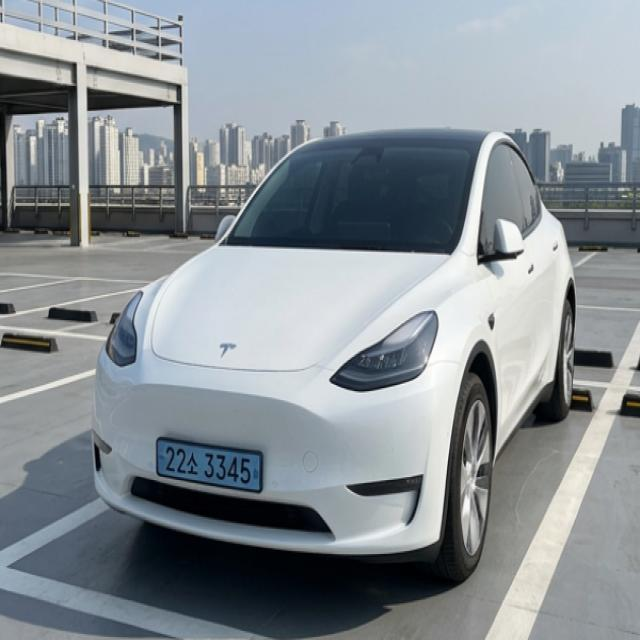car: (144, 426, 285, 505)
carev: (151, 433, 167, 484), (250, 447, 264, 492)
